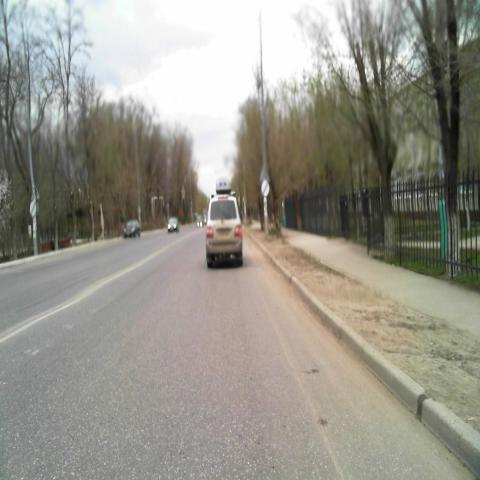3_31: (261, 180, 270, 196), (30, 200, 36, 216)
